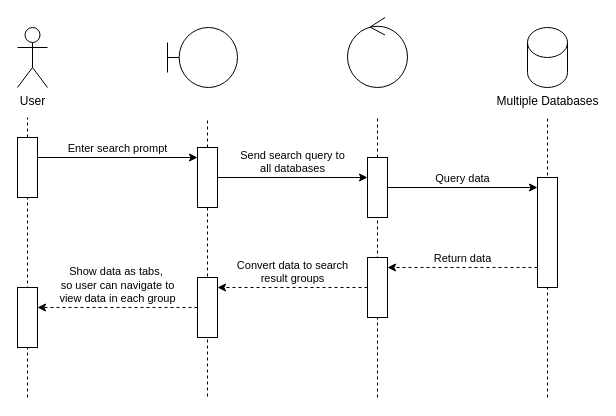
This 616x416 diagram has some shape labels left out. Here are the shapes that lost their labels. From the top down, the centre of each, then its label:
At [202,57]: "SearchScreen".
At [377,52]: "SearchController".
